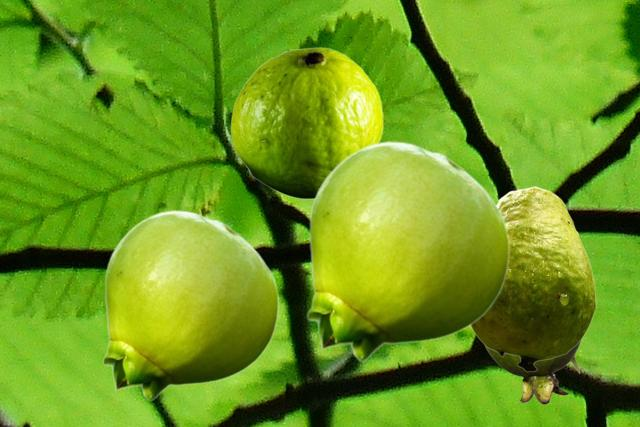guava: (306, 141, 509, 361), (102, 210, 278, 400), (470, 186, 595, 371), (230, 47, 382, 198), (484, 341, 581, 403)
